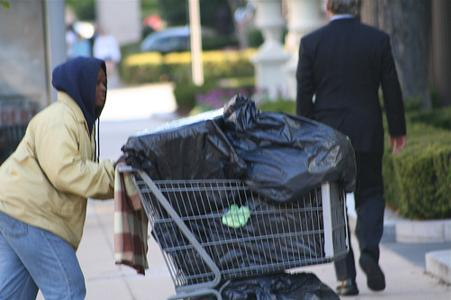person: (1, 52, 134, 299)
